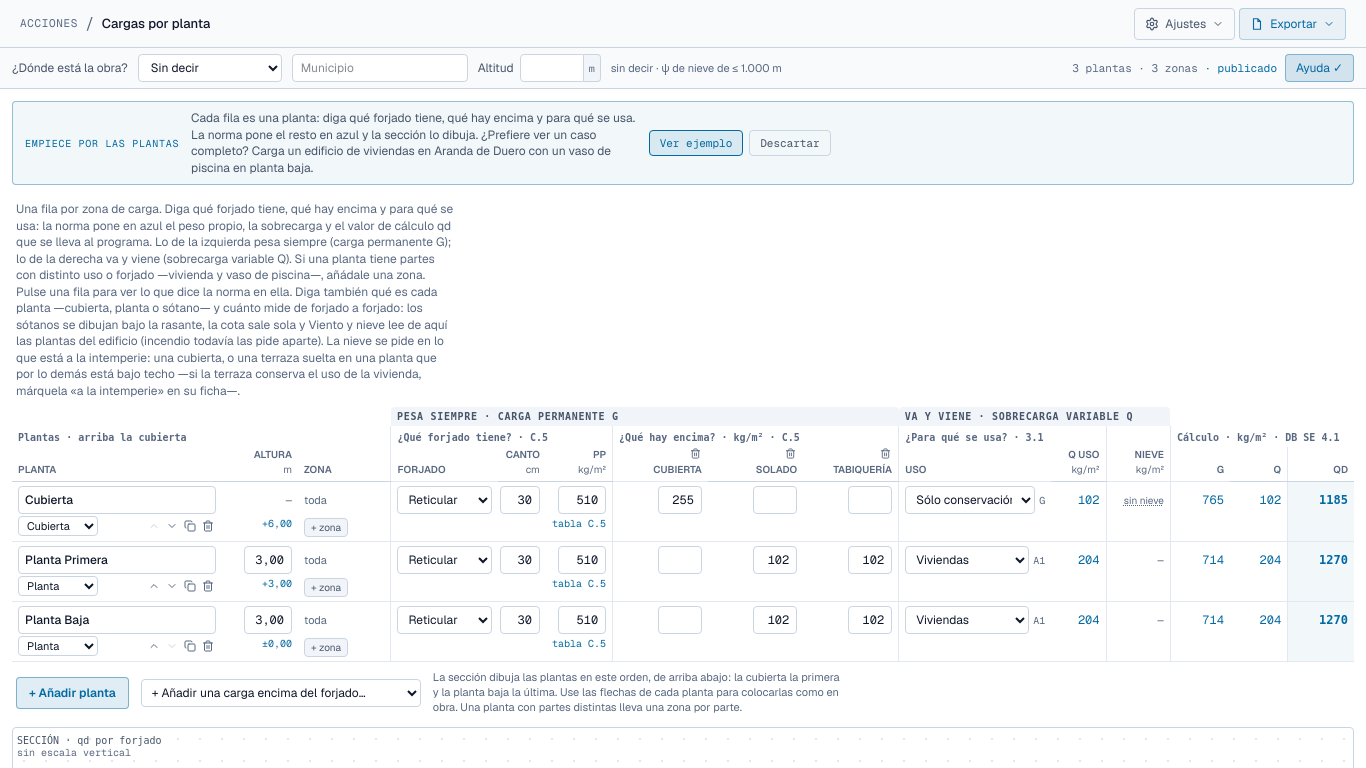
Test: Cargas por planta — un solo sistema de unidades › lo que se teclea se lee en la unidad activa y vuelve a SI por dentro
Replace the text in the field named "Peso propio de Planta Baja" with "600". click: (582, 620)
box: [558,606,606,634]
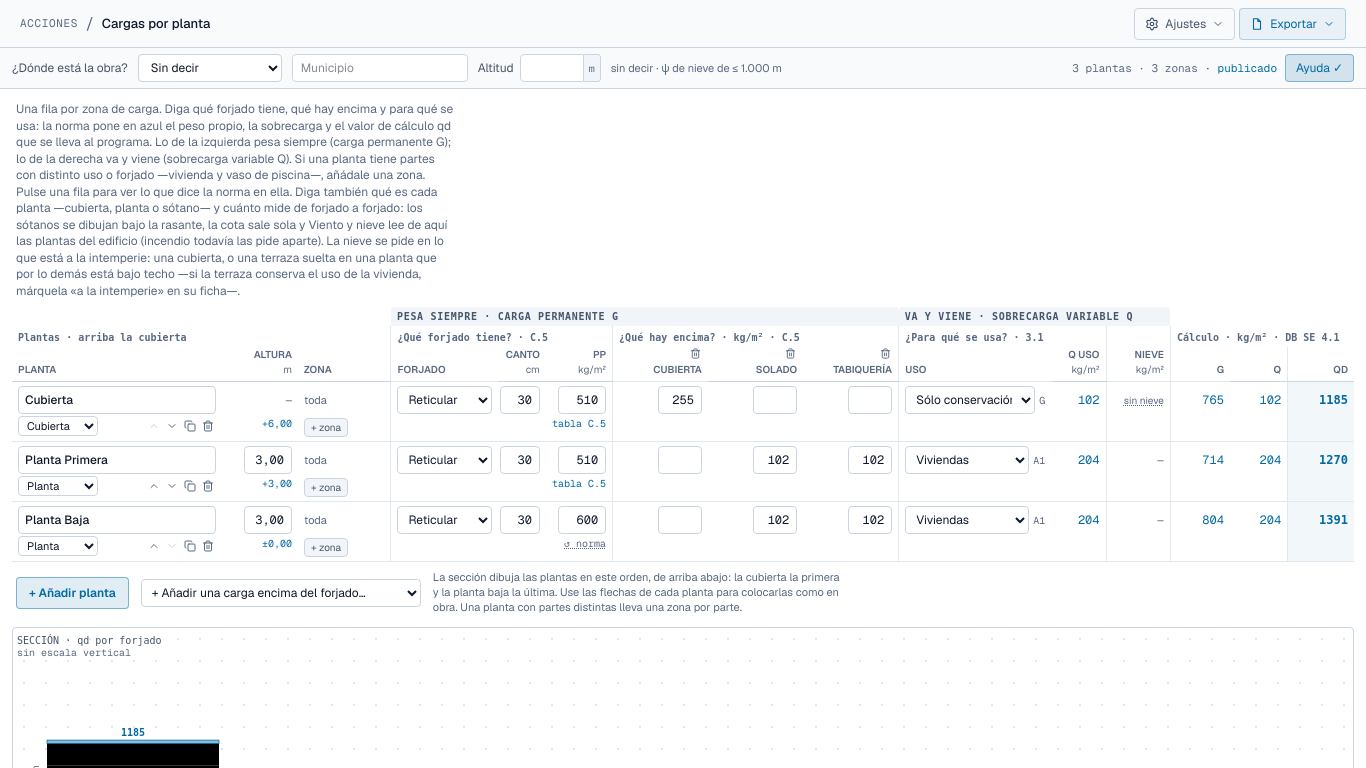
Now the row named "Nombre de la planta" shows "804", box [1202,512,1224,528]
